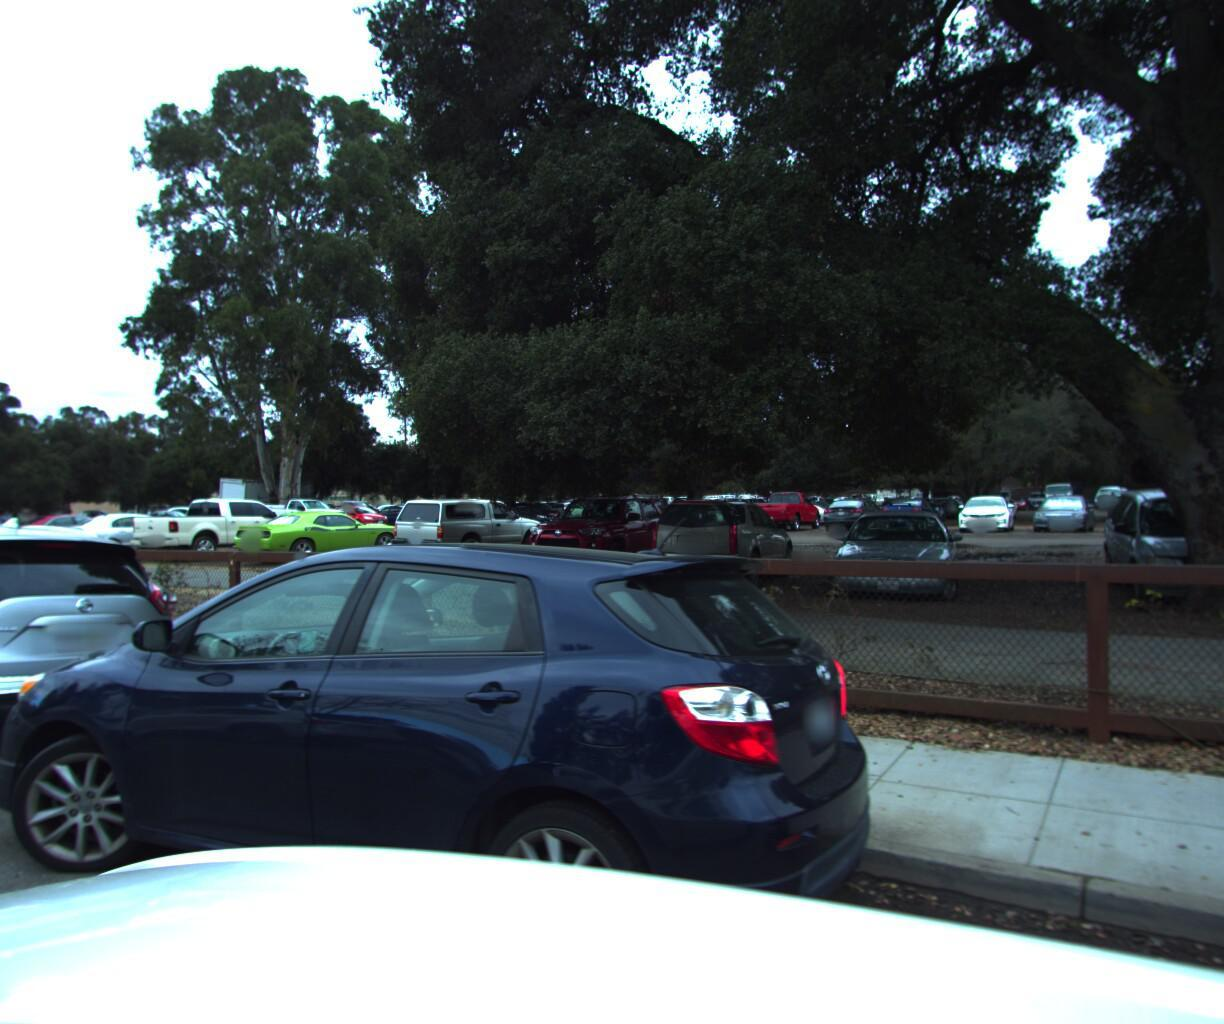car: (0, 526, 912, 1024), (0, 499, 223, 838), (636, 486, 797, 587), (817, 498, 959, 605)
